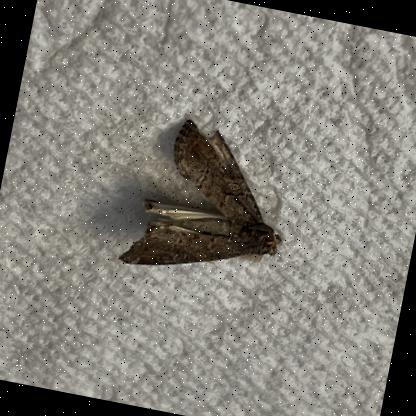Fall Armyworm Moth: (113, 108, 304, 296)
